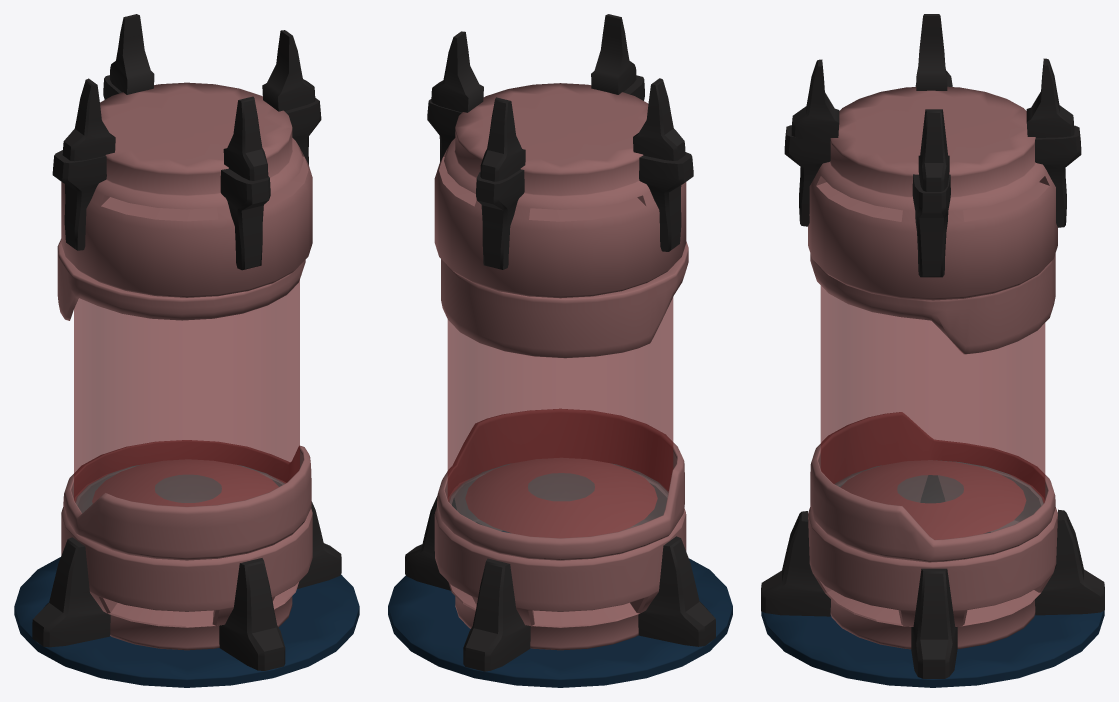
Rendered from Module_Ss_asset_Tu_1.FBX.
The picture shows the model from 3 angles, left to right: view 1: azimuth 30°, elevation 25°; view 2: azimuth 150°, elevation 25°; view 3: azimuth 270°, elevation 25°; orthographic projection.
Parts seen in each view (by area): view 1: Module_Ss_asset_Tu_A, Module_Ss_asset_Tu_D, Module_Ss_asset_Tu_B, Module_Ss_asset_Tu_Y, Module_Ss_asset_Tu_X3, Module_Ss_asset_Tu_X, Module_Ss_asset_Tu_X2, Module_Ss_asset_Tu_E, Module_Ss_asset_Tu_C; view 2: Module_Ss_asset_Tu_A, Module_Ss_asset_Tu_D, Module_Ss_asset_Tu_B, Module_Ss_asset_Tu_Y, Module_Ss_asset_Tu_C, Module_Ss_asset_Tu_E, Module_Ss_asset_Tu_X3, Module_Ss_asset_Tu_X, Module_Ss_asset_Tu_X2; view 3: Module_Ss_asset_Tu_A, Module_Ss_asset_Tu_D, Module_Ss_asset_Tu_B, Module_Ss_asset_Tu_Y, Module_Ss_asset_Tu_X3, Module_Ss_asset_Tu_E, Module_Ss_asset_Tu_C, Module_Ss_asset_Tu_X, Module_Ss_asset_Tu_X2.
Boxes of the visible parts, x1=… form: Module_Ss_asset_Tu_A: x1=61, y1=82, x2=312, y2=650; Module_Ss_asset_Tu_D: x1=74, y1=280, x2=299, y2=513; Module_Ss_asset_Tu_B: x1=63, y1=440, x2=311, y2=560; Module_Ss_asset_Tu_Y: x1=14, y1=557, x2=359, y2=687; Module_Ss_asset_Tu_X3: x1=32, y1=501, x2=341, y2=670; Module_Ss_asset_Tu_X: x1=62, y1=14, x2=315, y2=180; Module_Ss_asset_Tu_X2: x1=52, y1=75, x2=321, y2=270; Module_Ss_asset_Tu_E: x1=76, y1=459, x2=284, y2=512; Module_Ss_asset_Tu_C: x1=57, y1=239, x2=305, y2=320; Module_Ss_asset_Tu_A: x1=434, y1=83, x2=686, y2=650; Module_Ss_asset_Tu_D: x1=447, y1=297, x2=673, y2=537; Module_Ss_asset_Tu_B: x1=437, y1=409, x2=684, y2=560; Module_Ss_asset_Tu_Y: x1=388, y1=558, x2=732, y2=687; Module_Ss_asset_Tu_C: x1=441, y1=241, x2=688, y2=358; Module_Ss_asset_Tu_E: x1=449, y1=457, x2=667, y2=538; Module_Ss_asset_Tu_X3: x1=405, y1=496, x2=715, y2=671; Module_Ss_asset_Tu_X: x1=431, y1=14, x2=685, y2=181; Module_Ss_asset_Tu_X2: x1=427, y1=75, x2=693, y2=269; Module_Ss_asset_Tu_A: x1=808, y1=86, x2=1057, y2=649; Module_Ss_asset_Tu_D: x1=820, y1=286, x2=1045, y2=539; Module_Ss_asset_Tu_B: x1=810, y1=412, x2=1055, y2=562; Module_Ss_asset_Tu_Y: x1=761, y1=610, x2=1104, y2=687; Module_Ss_asset_Tu_X3: x1=761, y1=475, x2=1104, y2=678; Module_Ss_asset_Tu_E: x1=835, y1=460, x2=1043, y2=539; Module_Ss_asset_Tu_C: x1=810, y1=253, x2=1055, y2=354; Module_Ss_asset_Tu_X: x1=791, y1=14, x2=1074, y2=191; Module_Ss_asset_Tu_X2: x1=784, y1=71, x2=1081, y2=277.
Bounding box in the file's own units: 53.95 × 95.92 × 53.95.
